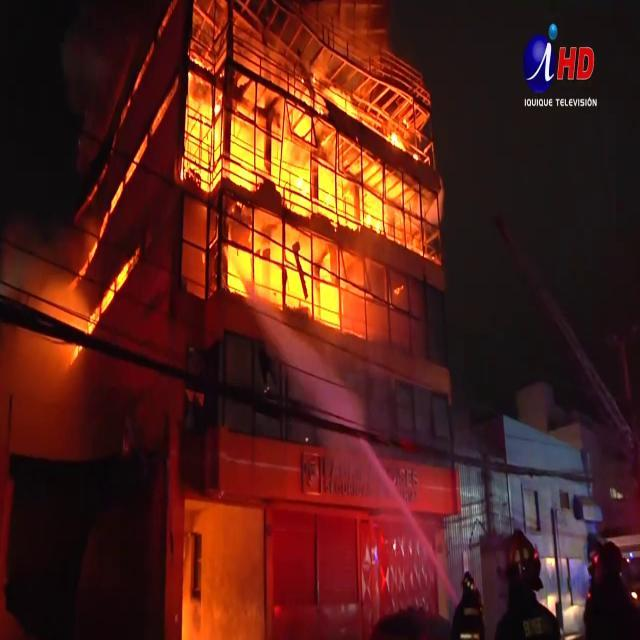Fire: (203, 63, 438, 325)
